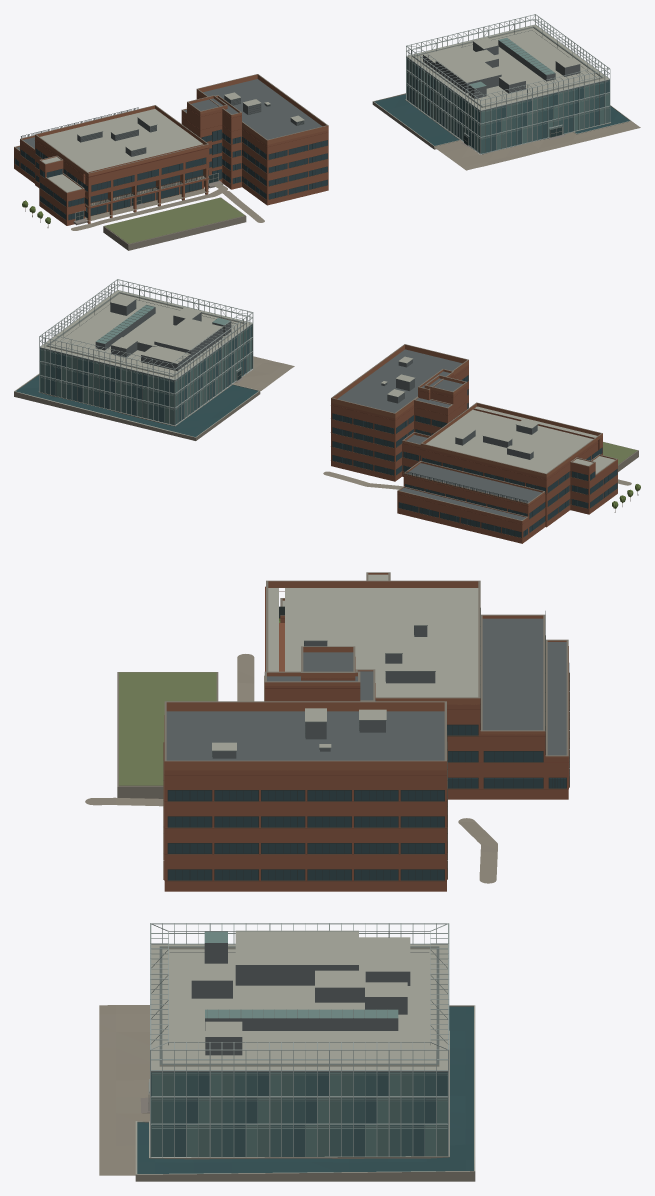
Rendered from site.glb.
3 views of the same model, one above another, from view 1: azimuth 30°, elevation 25°; view 2: azimuth 150°, elevation 25°; view 3: azimuth 270°, elevation 25° (orthographic). The views are drawn at different scales.
Visible parts, largest first — view 1: roof-11d15952, context-b0067, oregon-jaqua-grounds; view 2: roof-11d15952, context-b0067, oregon-jaqua-grounds; view 3: roof-11d15952, context-b0067, oregon-jaqua-grounds.
Part boxes in pixels (left/top/right/bottom): roof-11d15952: left=14, top=74, right=328, bottom=225; context-b0067: left=406, top=14, right=610, bottom=154; oregon-jaqua-grounds: left=71, top=93, right=640, bottom=250; roof-11d15952: left=330, top=344, right=617, bottom=543; context-b0067: left=39, top=279, right=253, bottom=425; oregon-jaqua-grounds: left=14, top=356, right=638, bottom=489; roof-11d15952: left=163, top=572, right=569, bottom=891; context-b0067: left=148, top=923, right=449, bottom=1157; oregon-jaqua-grounds: left=85, top=654, right=497, bottom=1181.
Size of the model in its own units: 164 by 22.02 by 62.4.
